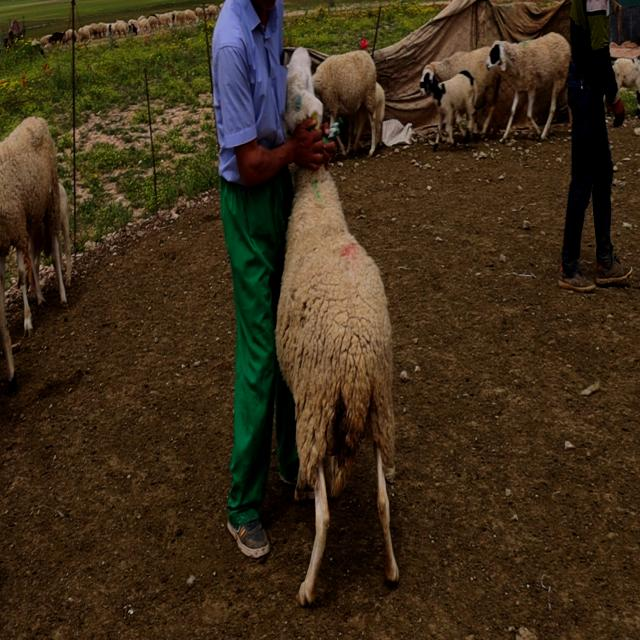Score_3: (275, 167, 399, 607)
